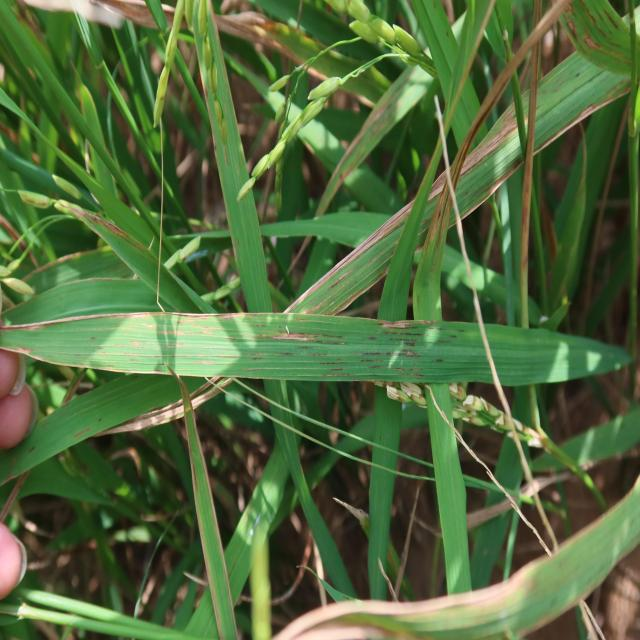Dom soc vi khuan: (209, 311, 480, 381)
